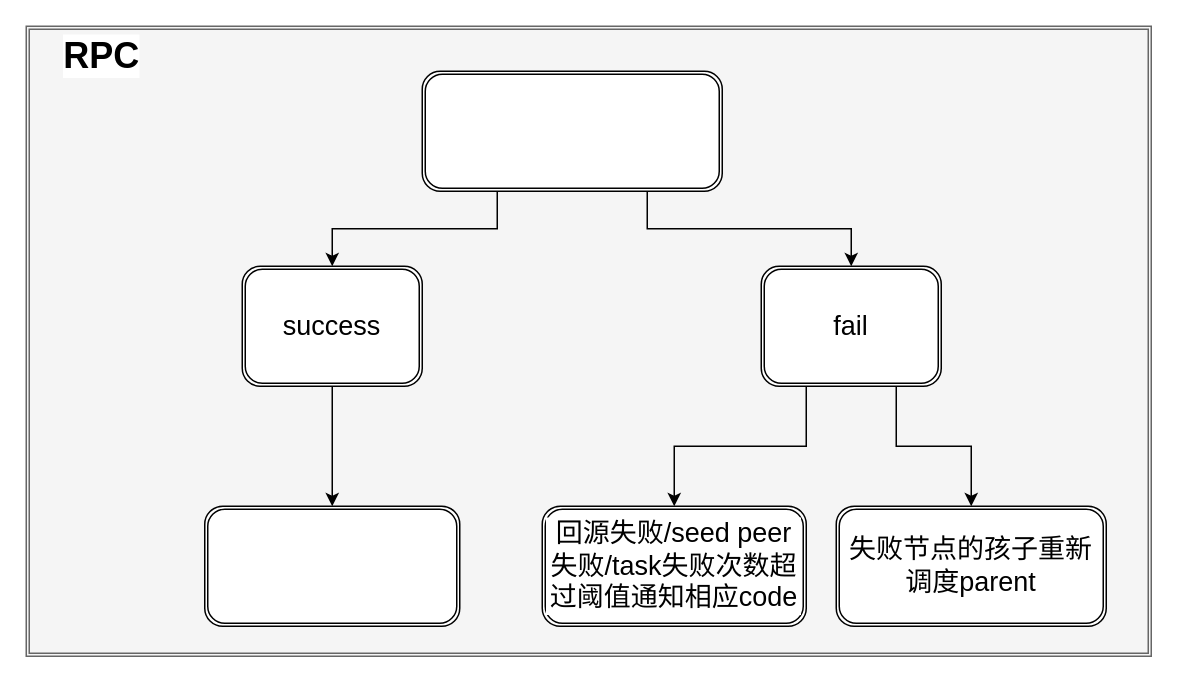
The diagram is 1178 pixels wide and 683 high, and some of its shapes have lost their labels. Each missing label, with the centre of its shape:
ReportPeerResult: pixel 571 130
如果是tiny类型 保存分片到内存: pixel 331 565
